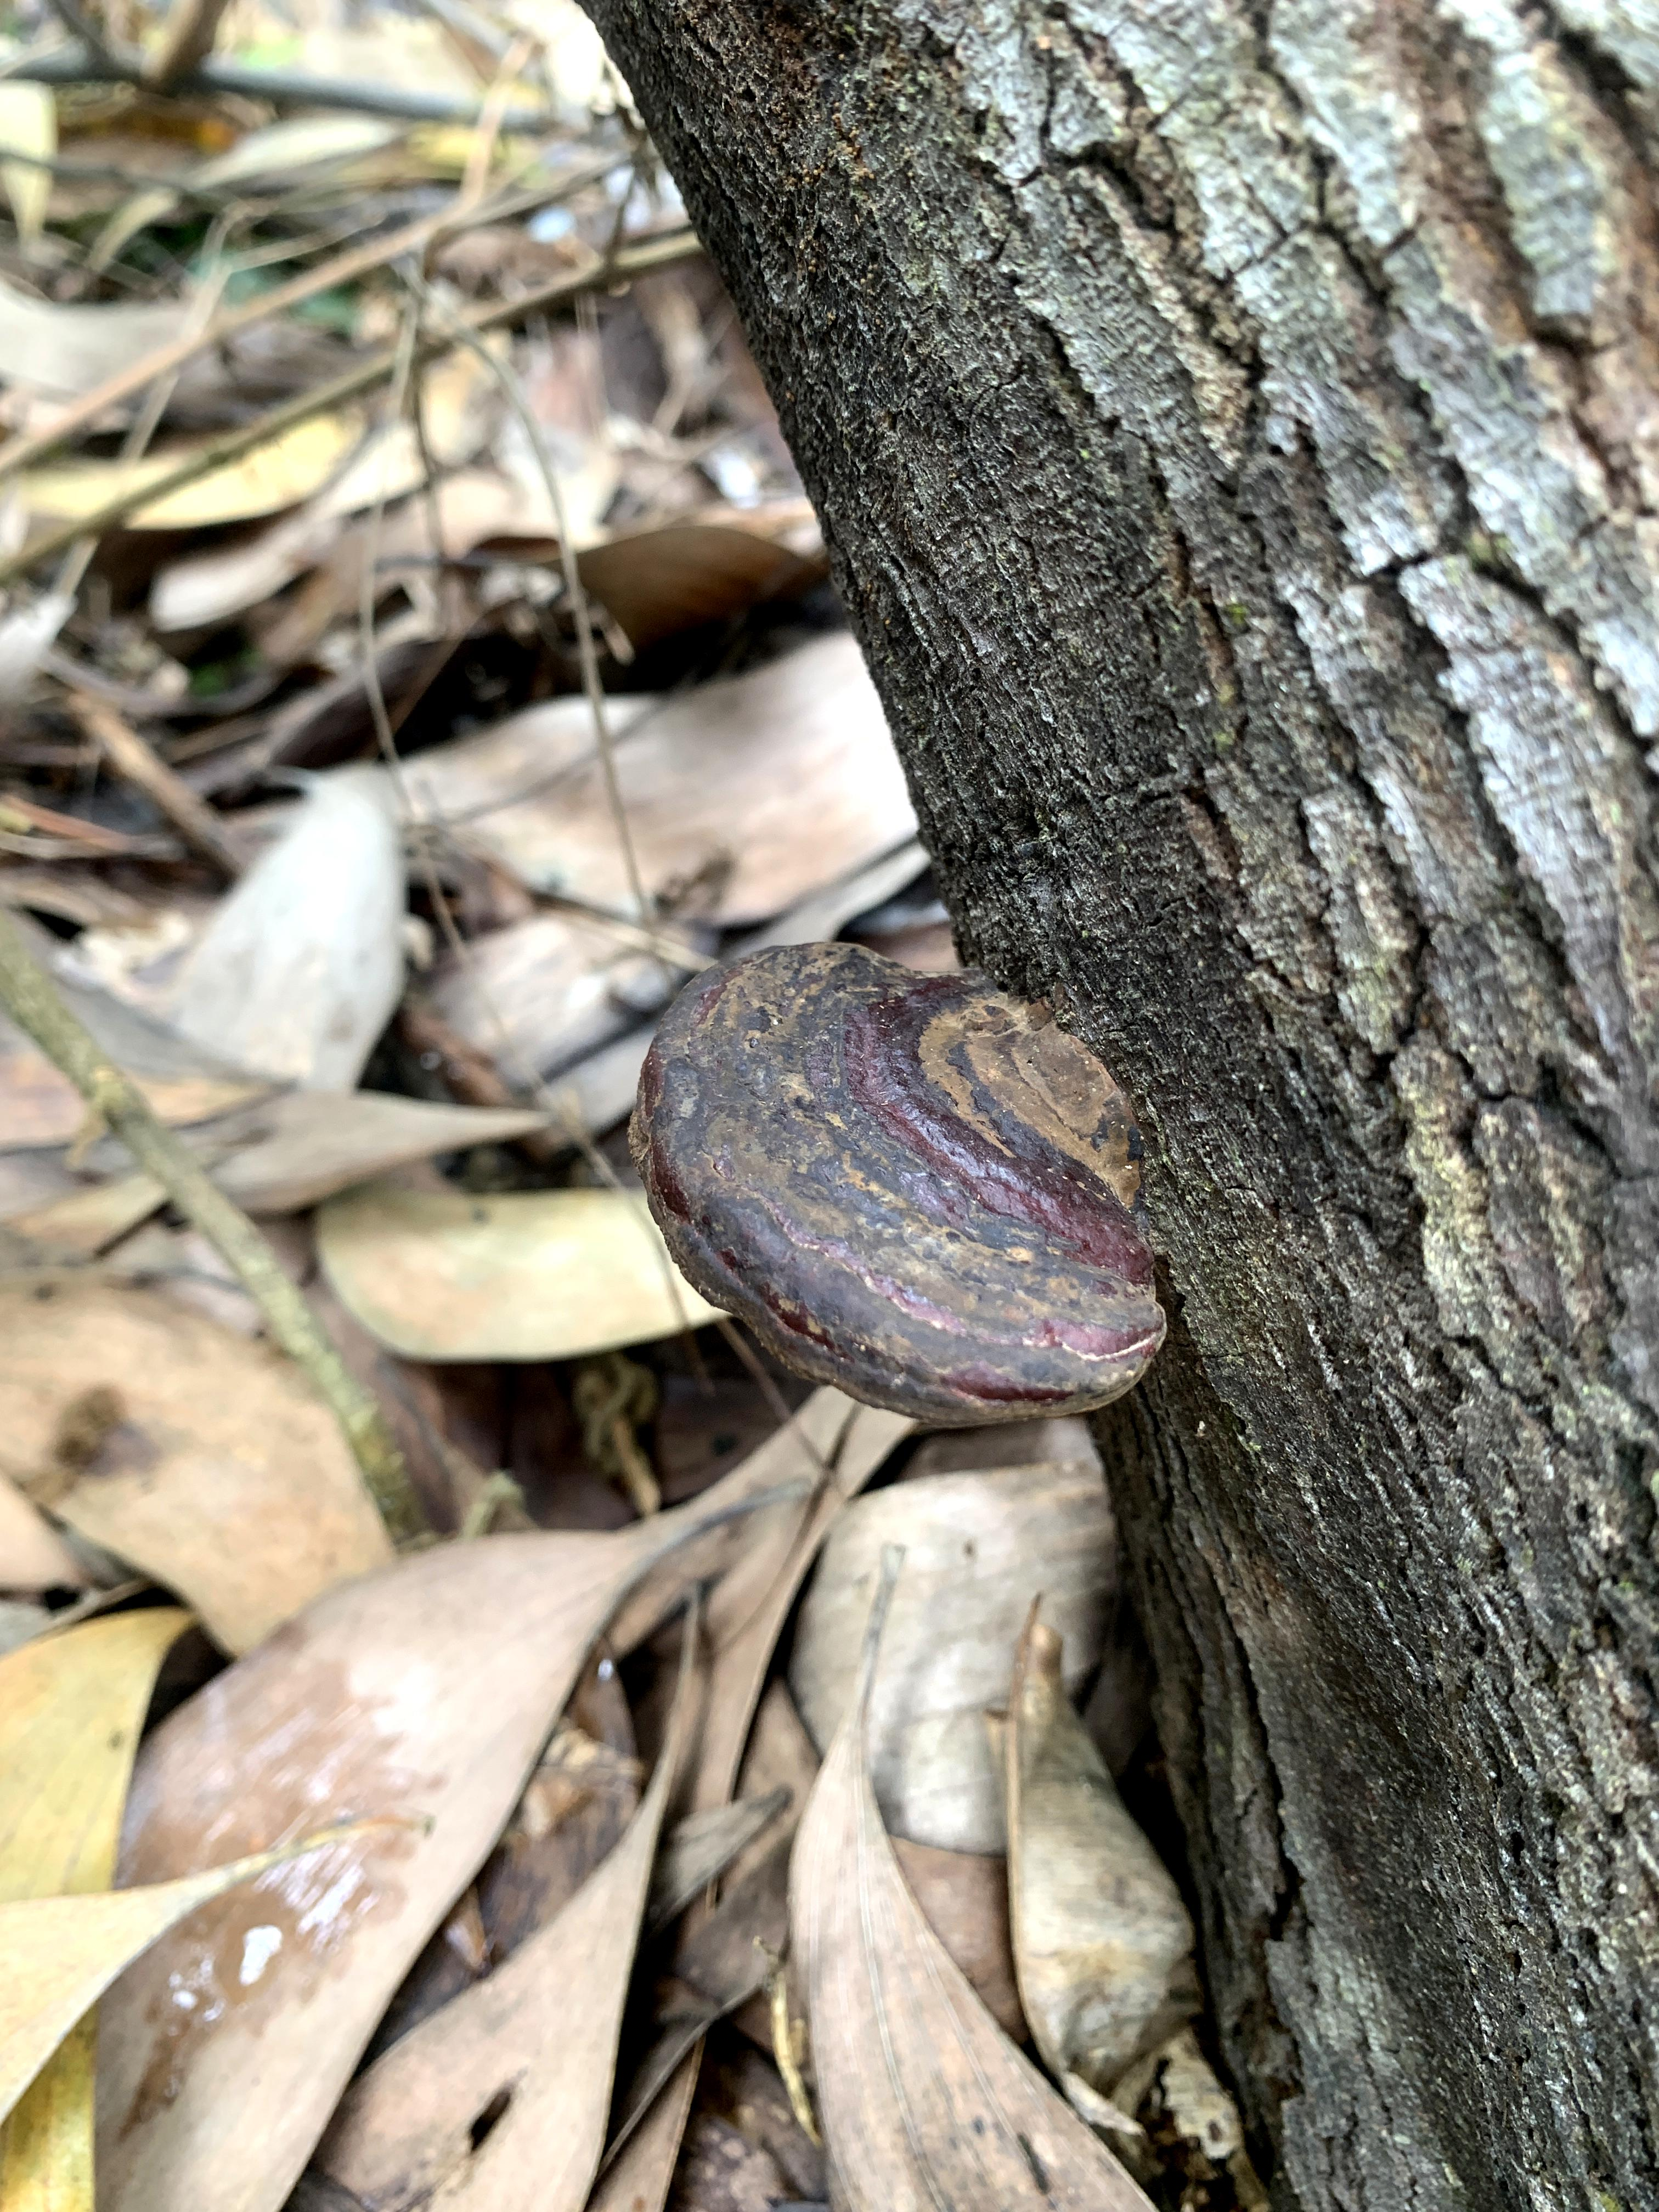Ganoderma - Fruit Body: (626, 890, 1220, 1399)
